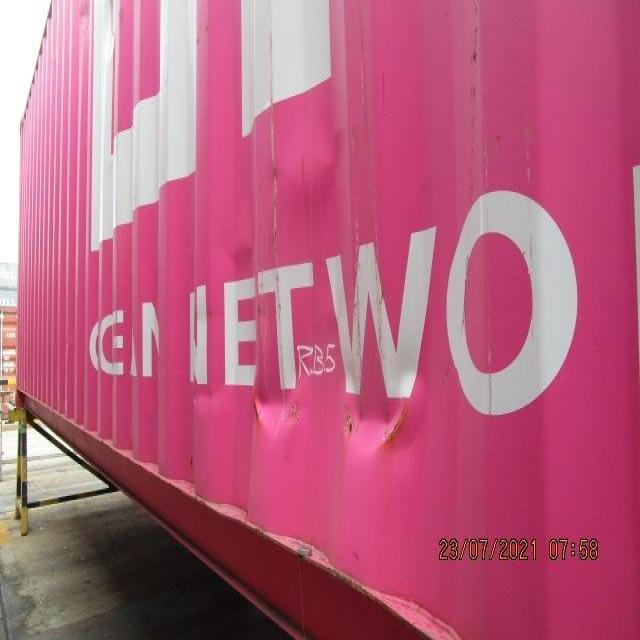dent: (190, 222, 491, 505)
